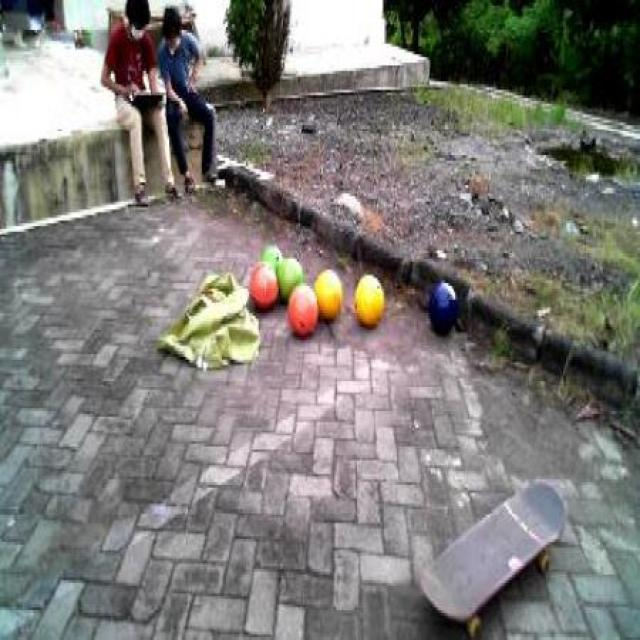buoy: (286, 282, 320, 342), (428, 275, 458, 338), (247, 256, 279, 313), (313, 268, 343, 324), (354, 270, 384, 326), (274, 250, 302, 304), (258, 235, 284, 274)
